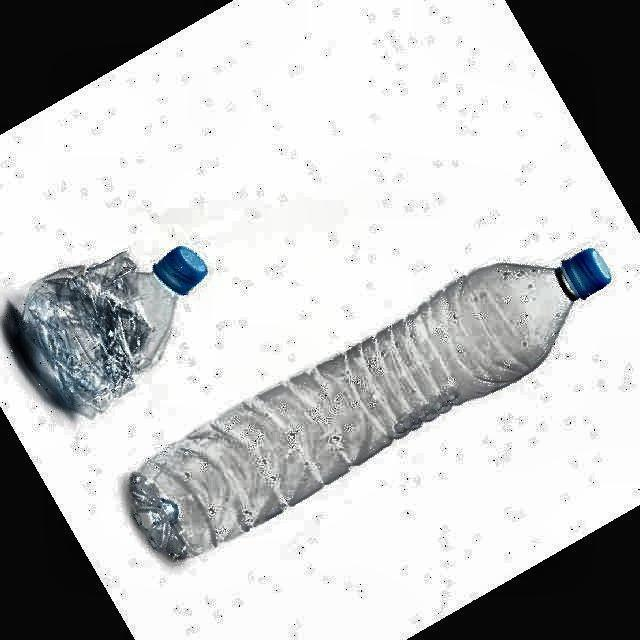plastic: (130, 249, 610, 559), (6, 248, 208, 416)
